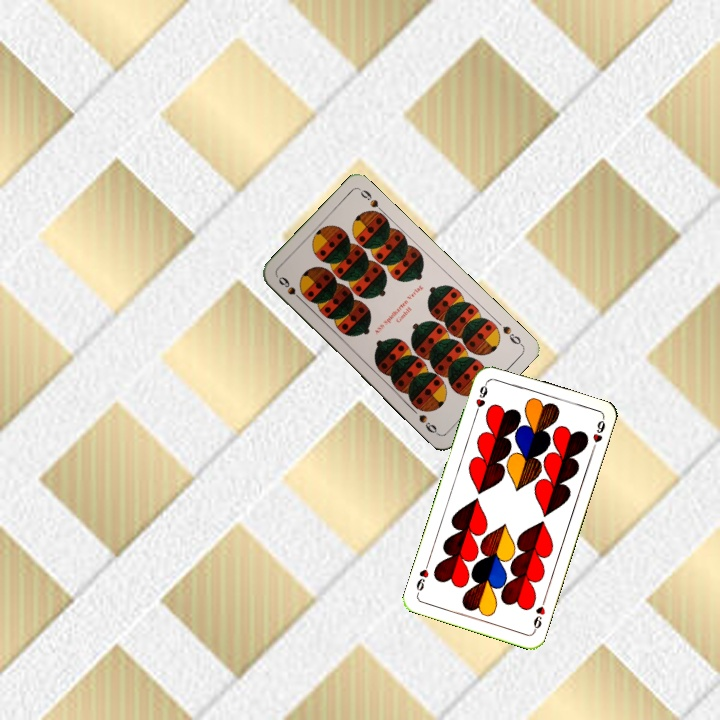H9: (529, 595, 548, 635), (471, 378, 490, 417)
S9: (274, 272, 306, 305), (498, 322, 525, 348)
